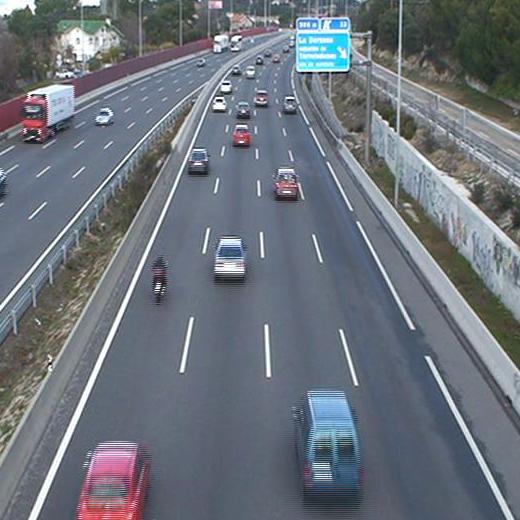car: (79, 442, 149, 520), (214, 237, 245, 281), (275, 167, 297, 198), (187, 147, 209, 174), (232, 125, 250, 145), (282, 97, 297, 113), (211, 96, 227, 111), (255, 91, 270, 106), (236, 100, 250, 116), (219, 79, 232, 92), (244, 66, 255, 79), (231, 65, 240, 76)
motorcycle: (149, 253, 169, 303)
van: (297, 389, 362, 496)
